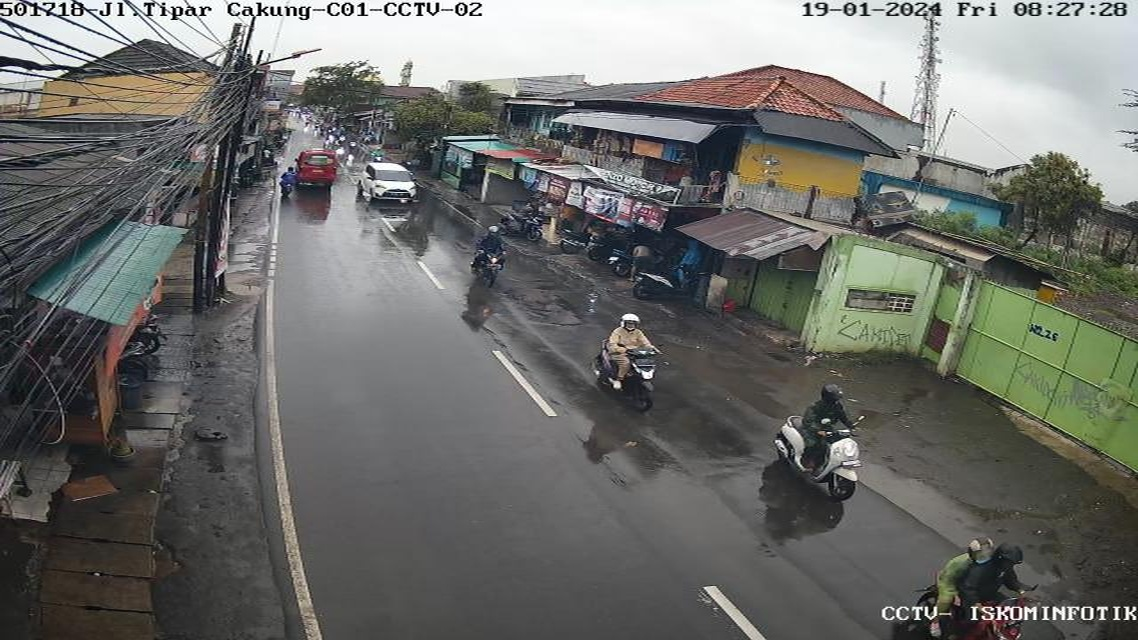Gerobak: (12, 333, 142, 455)
